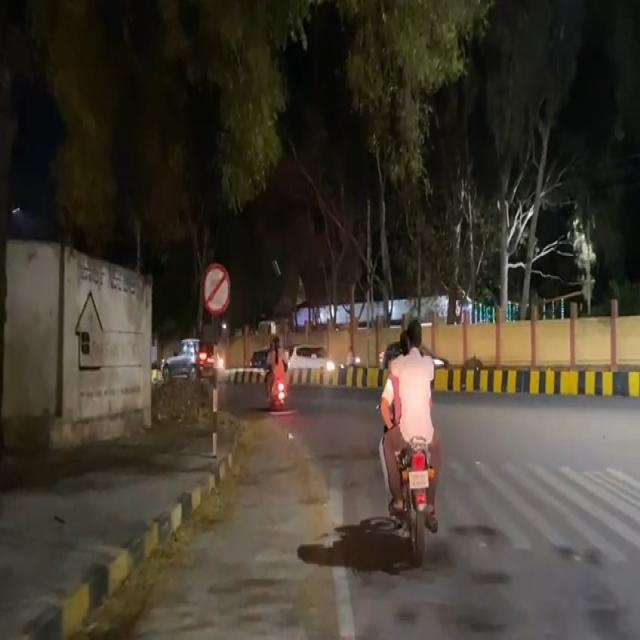bien_cam: (200, 261, 233, 320)
